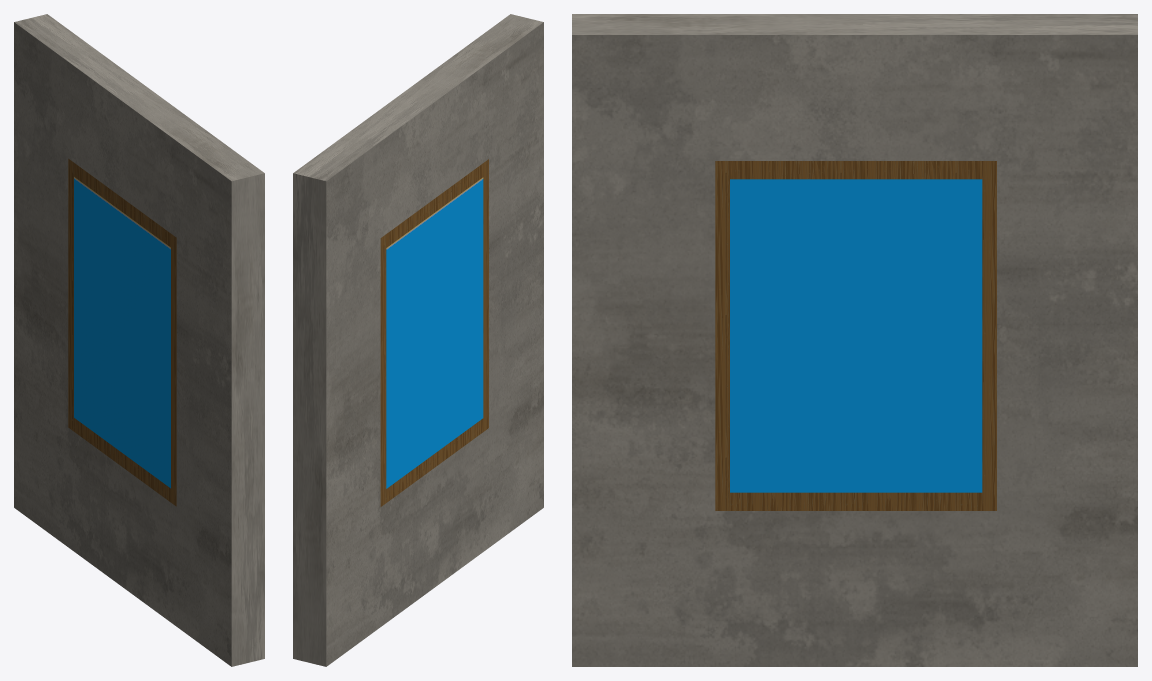
File: Modular_window.fbx
3 renders of one model, left to right at view 1: azimuth 30°, elevation 25°; view 2: azimuth 150°, elevation 25°; view 3: azimuth 270°, elevation 25°, orthographic. The views are drawn at different scales.
Parts seen in each view (by area): view 1: Modular_window_wall, Modular_window; view 2: Modular_window_wall, Modular_window; view 3: Modular_window_wall, Modular_window.
Part boxes in pixels (x1,y1,x2,y2): Modular_window_wall: (14,14,264,666); Modular_window: (68,158,176,506); Modular_window_wall: (293,14,543,666); Modular_window: (380,159,488,506); Modular_window_wall: (572,14,1137,666); Modular_window: (715,161,996,510).
Size of the model in its own units: 26.56 by 371 by 301.
